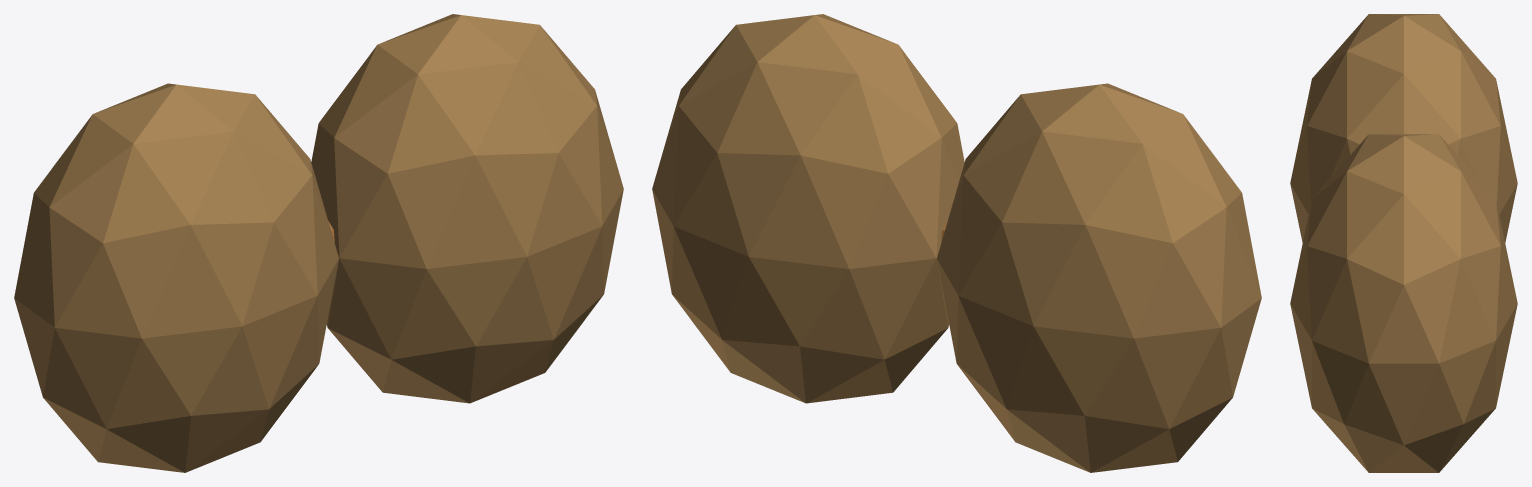
File: harvest_drop_kiwi.glb
The picture shows the model from 3 angles, left to right: view 1: azimuth 30°, elevation 25°; view 2: azimuth 150°, elevation 25°; view 3: azimuth 270°, elevation 25°; orthographic projection. The views are drawn at different scales.
Parts seen in each view (by area): view 1: FTF_Harvest_Drop_Kiwi_Pair_Mesh; view 2: FTF_Harvest_Drop_Kiwi_Pair_Mesh; view 3: FTF_Harvest_Drop_Kiwi_Pair_Mesh.
Part boxes in pixels (x1,y1,x2,y2): FTF_Harvest_Drop_Kiwi_Pair_Mesh: [14, 14, 623, 472]; FTF_Harvest_Drop_Kiwi_Pair_Mesh: [652, 14, 1261, 472]; FTF_Harvest_Drop_Kiwi_Pair_Mesh: [1290, 14, 1517, 472].
Bounding box in the file's own units: 0.3997 × 0.26 × 0.16.
